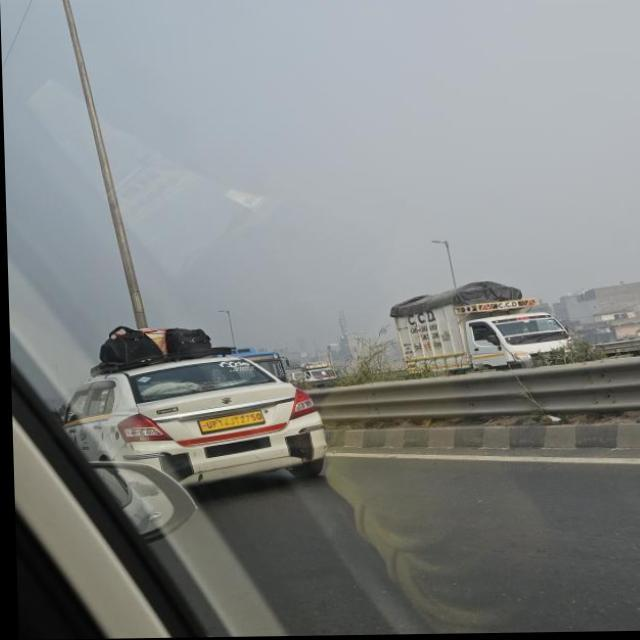covered: (365, 276, 566, 377)
uncovered: (62, 305, 312, 483)
